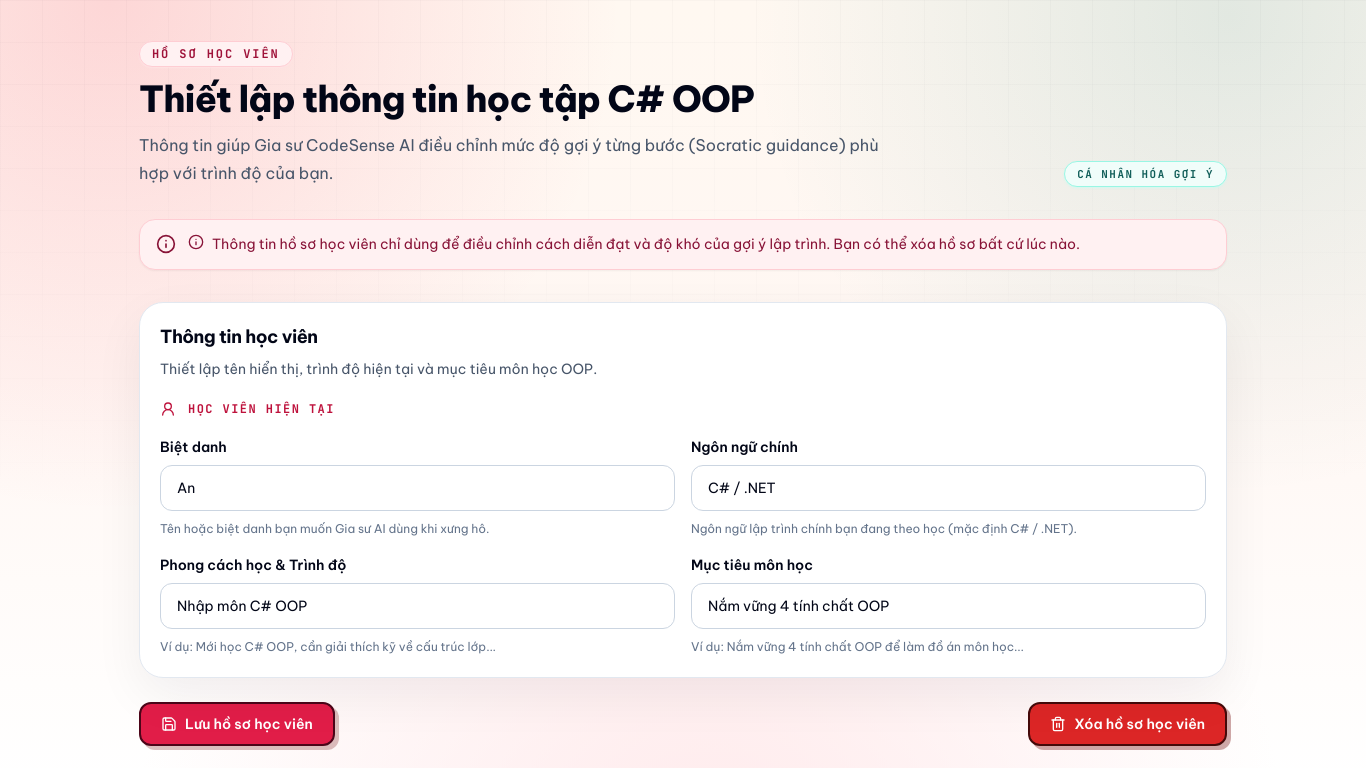
ProfilePage › loads student profile data and saves edited profile back to the API without partner UI
The width and height of the screenshot is (1366, 768).
Replace the text in the field labelled "Biệt danh" with "An mới" at (418, 488), box [160,465,675,511]
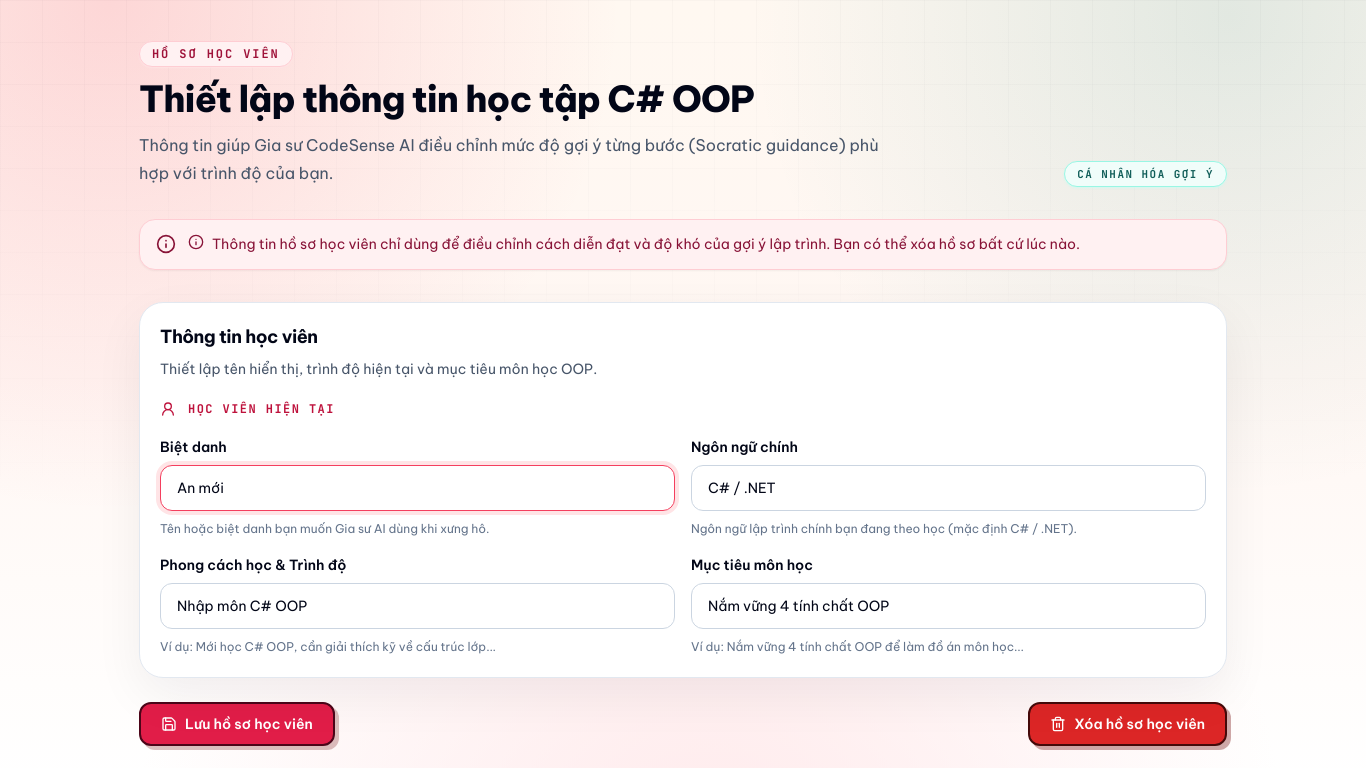
Click the button "Lưu hồ sơ học viên" at (237, 724), box [139,702,335,746]
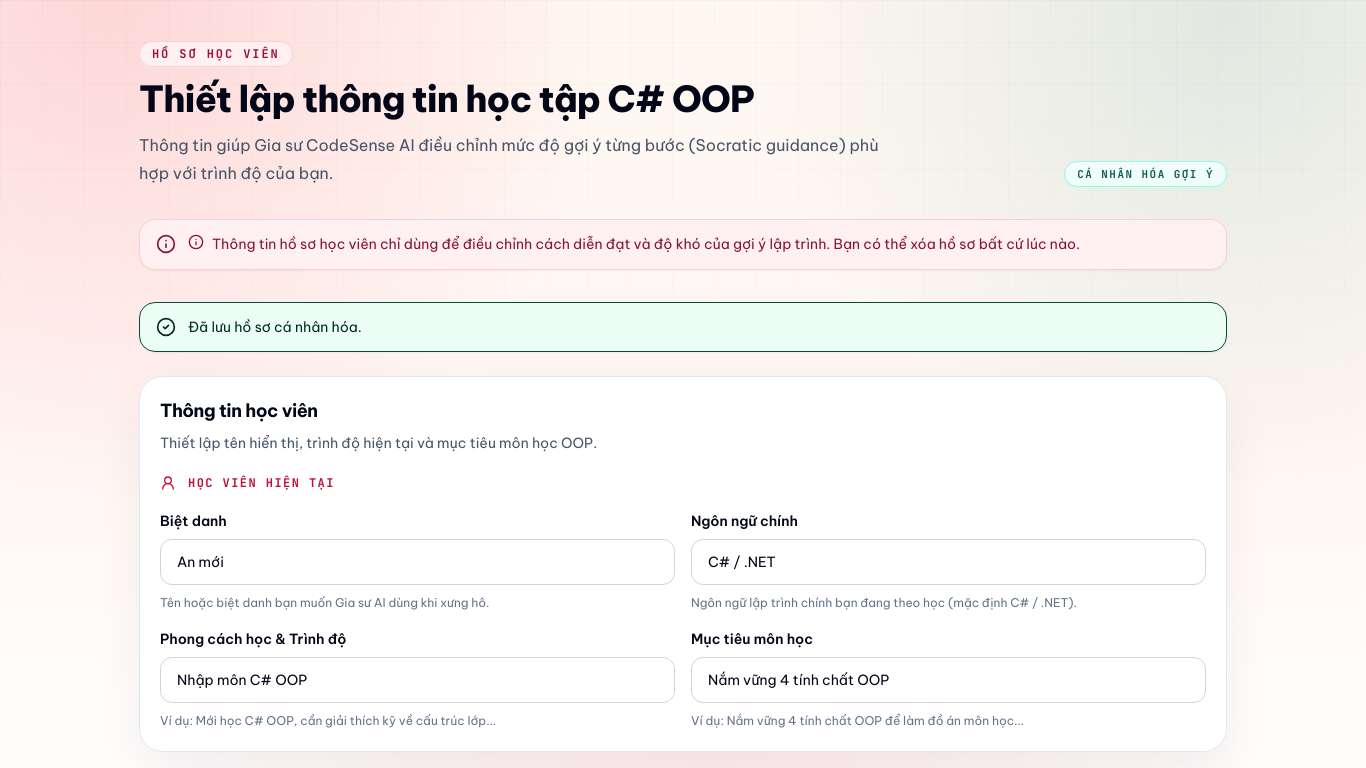
Check: the text "Đã lưu hồ sơ cá nhân hóa." is shown, box [188,315,362,339]
